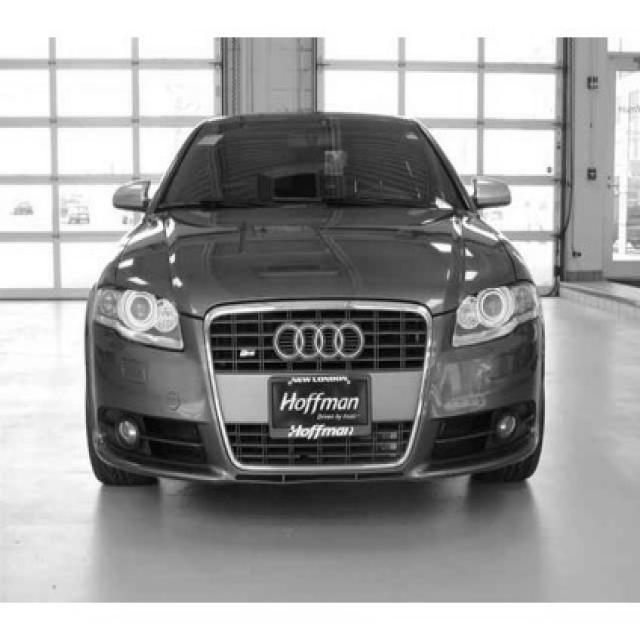car: (83, 108, 545, 489)
